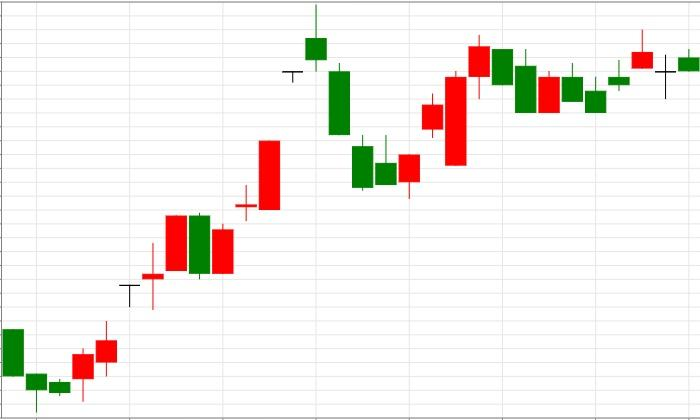three_black_crows_fall: (48, 5, 374, 402)
